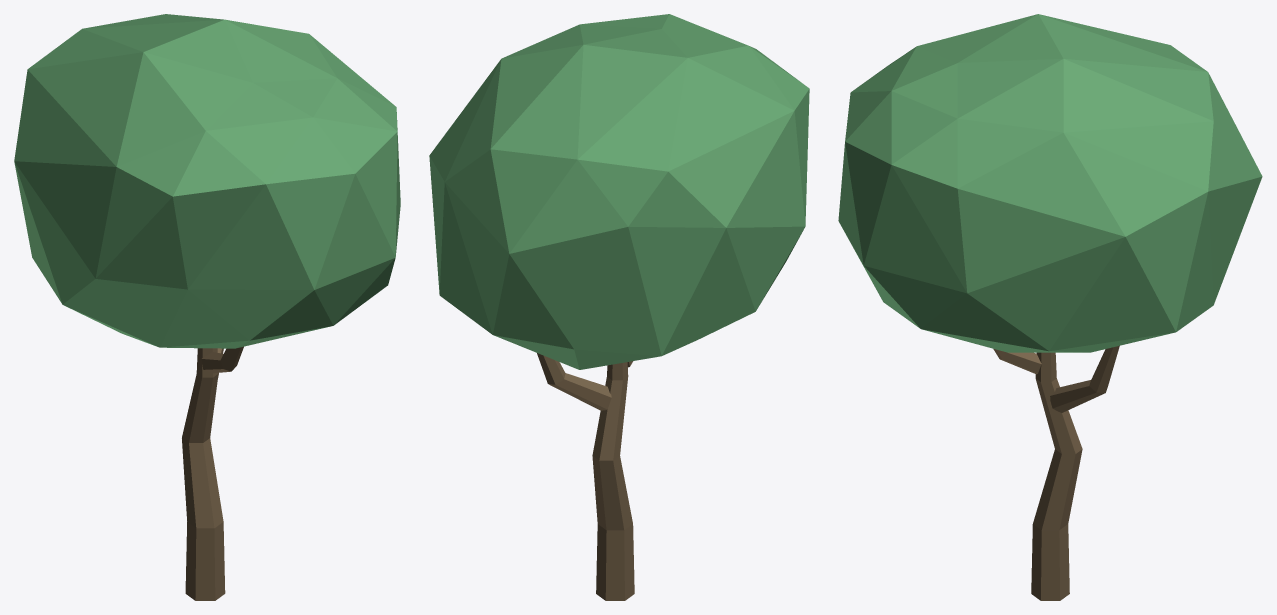
File: tree.fbx
3 renders of one model, left to right at view 1: azimuth 30°, elevation 25°; view 2: azimuth 150°, elevation 25°; view 3: azimuth 270°, elevation 25°, orthographic. The views are drawn at different scales.
Visible parts, largest first — view 1: Icosphere, Cylinder; view 2: Icosphere, Cylinder; view 3: Icosphere, Cylinder.
Part boxes in pixels (x1,y1,x2,y2): Icosphere: (14, 14, 400, 348); Cylinder: (182, 346, 243, 600); Icosphere: (429, 14, 809, 369); Cylinder: (537, 353, 634, 600); Icosphere: (838, 14, 1262, 352); Cylinder: (993, 345, 1119, 600).
Bounding box in the file's own units: 4212 × 7422 × 5211.
